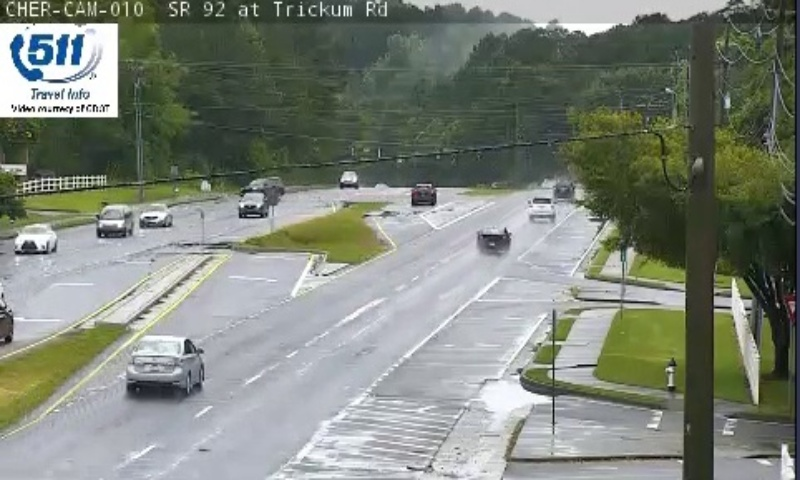car: (127, 335, 202, 389), (476, 226, 511, 253), (526, 196, 554, 220)
